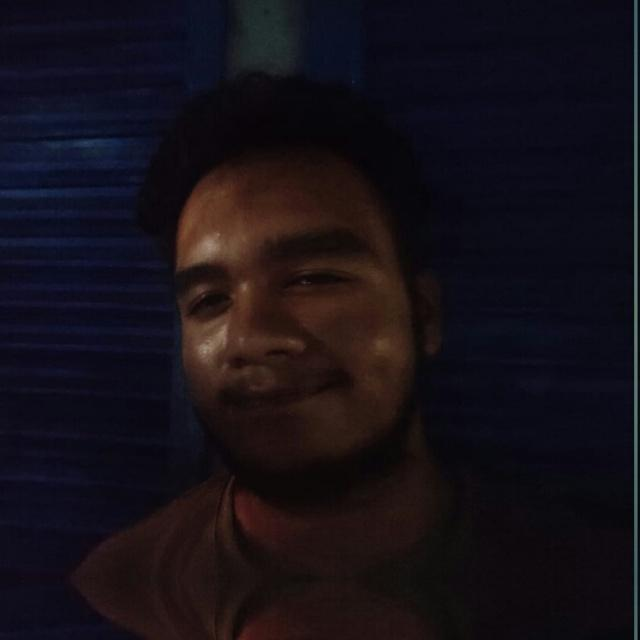happy: (137, 102, 483, 530)
